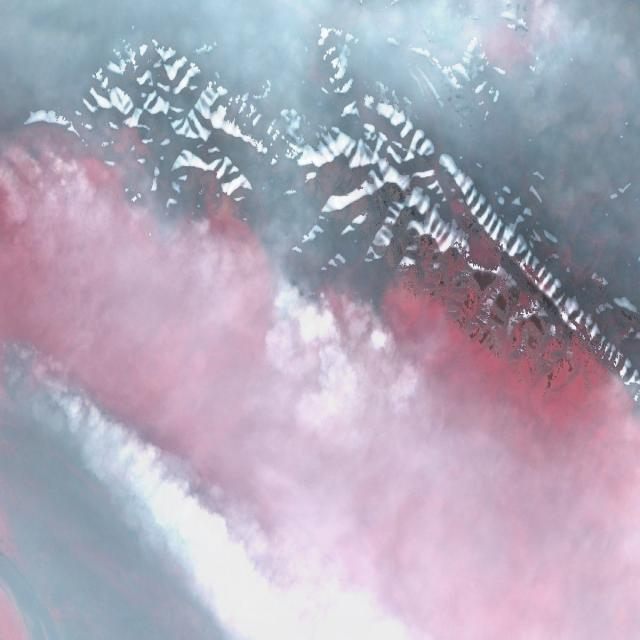fire: (0, 329, 229, 640), (261, 255, 391, 352), (16, 136, 111, 196)
